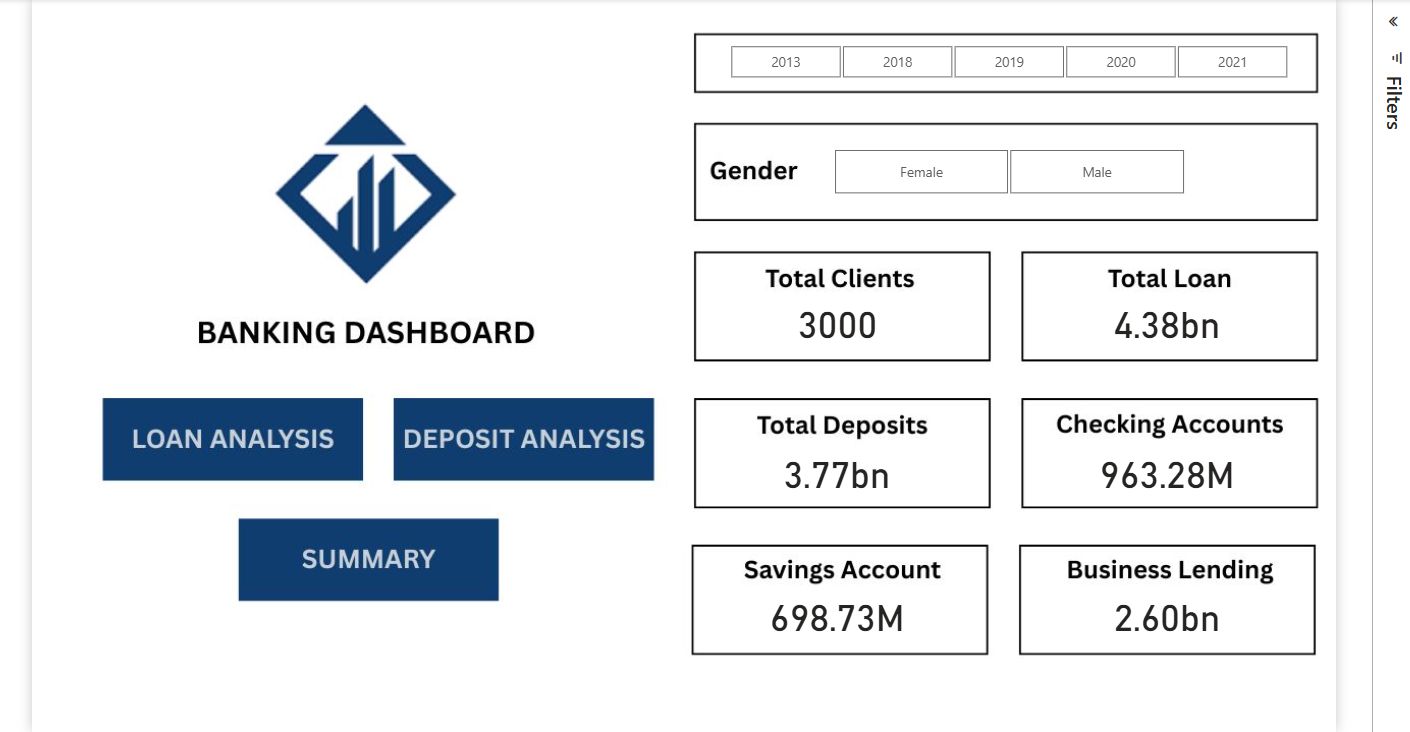

Layout of this report page (visuals, bound fields, positions):
{"tool":"powerbi","page":{"name":"Home","canvas":[1280,720],"ordinal":0},"visuals":[{"type":"card","fields":{"Values":["CountNonNull(Banking csv.Name)"]},"box":[734.1,293.7,111.1,48],"z":0},{"type":"slicer","fields":{"Values":["Banking csv.GenderId"]},"box":[761.6,141.3,392.5,56.3],"z":1000},{"type":"card","fields":{"Values":["Banking csv.Total_Loan"]},"box":[1058,293.7,122.1,48],"z":2000},{"type":"card","fields":{"Values":["Banking csv.Total_deposit"]},"box":[734.1,439.1,124.9,48],"z":3000},{"type":"card","fields":{"Values":["Sum(Banking csv.Saving Accounts)"]},"box":[720.4,577.7,153.7,48],"z":4000},{"type":"card","fields":{"Values":["Sum(Banking csv.Checking Accounts)"]},"box":[1048.4,440.5,142.7,48],"z":5000},{"type":"card","fields":{"Values":["Sum(Banking csv.Business Lending)"]},"box":[1055.2,579.1,127.6,48],"z":6000},{"type":"slicer","fields":{"Values":["Banking csv.year_of_joining1"]},"box":[660,39.1,596.4,44.5],"z":7000},{"type":"actionButton","box":[72.5,398.8,251.2,66.2],"z":8000},{"type":"actionButton","box":[355.4,392.5,253.9,72.7],"z":9000},{"type":"actionButton","box":[207.2,510.5,245.6,81],"z":10000}]}

Visuals, with their boxes on the page's 1280x720 design canvas (x1, y1, x2, y2). These are canvas units, not pixel positions in the 1410x732 screenshot, which may show the page scaled, cropped or inside an application window:
card - CountNonNull(Banking csv.Name): (x1=734, y1=294, x2=845, y2=342)
slicer - Banking csv.GenderId: (x1=762, y1=141, x2=1154, y2=198)
card - Banking csv.Total_Loan: (x1=1058, y1=294, x2=1180, y2=342)
card - Banking csv.Total_deposit: (x1=734, y1=439, x2=859, y2=487)
card - Sum(Banking csv.Saving Accounts): (x1=720, y1=578, x2=874, y2=626)
card - Sum(Banking csv.Checking Accounts): (x1=1048, y1=440, x2=1191, y2=488)
card - Sum(Banking csv.Business Lending): (x1=1055, y1=579, x2=1183, y2=627)
slicer - Banking csv.year_of_joining1: (x1=660, y1=39, x2=1256, y2=84)
actionButton: (x1=72, y1=399, x2=324, y2=465)
actionButton: (x1=355, y1=392, x2=609, y2=465)
actionButton: (x1=207, y1=510, x2=453, y2=592)
